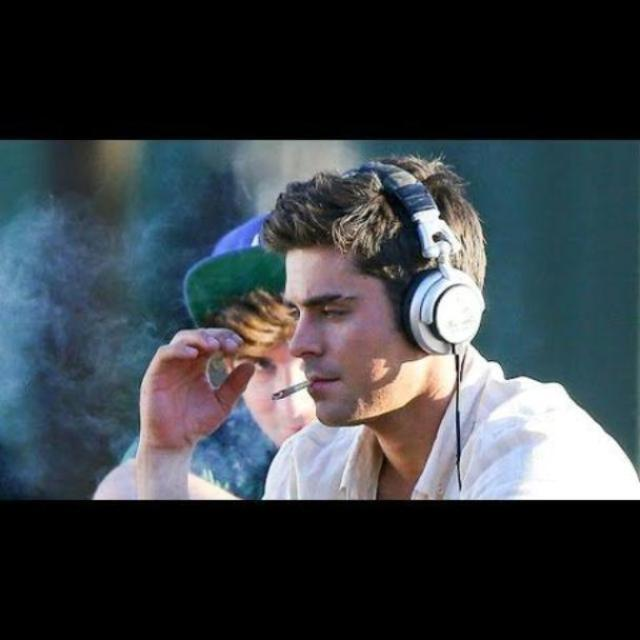rokok: (262, 374, 328, 406)
